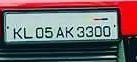0: (34, 26, 44, 37), (93, 24, 102, 36), (102, 24, 110, 36)
3: (75, 25, 84, 37), (84, 24, 93, 36)
5: (42, 25, 53, 37)
A: (55, 25, 64, 37)
K: (11, 25, 23, 39), (64, 24, 73, 36)
L: (22, 26, 33, 38)
